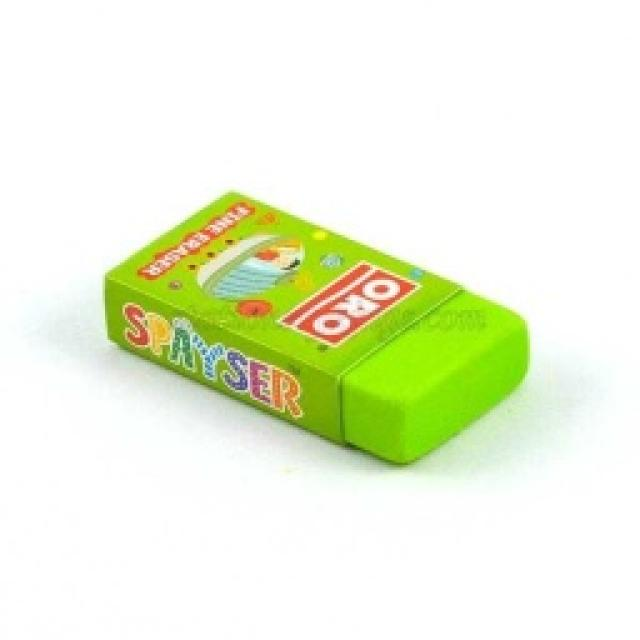Silgi: (105, 187, 532, 468)
